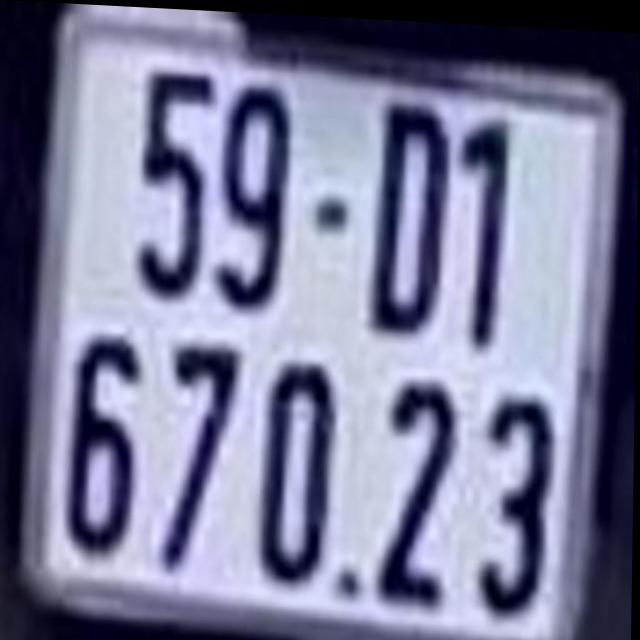0: (266, 360, 326, 582)
1: (461, 108, 505, 350)
2: (385, 369, 454, 604)
3: (488, 386, 549, 611)
5: (139, 66, 211, 291)
6: (69, 329, 139, 546)
7: (168, 340, 240, 573)
9: (220, 82, 290, 309)
D: (381, 94, 449, 334)
